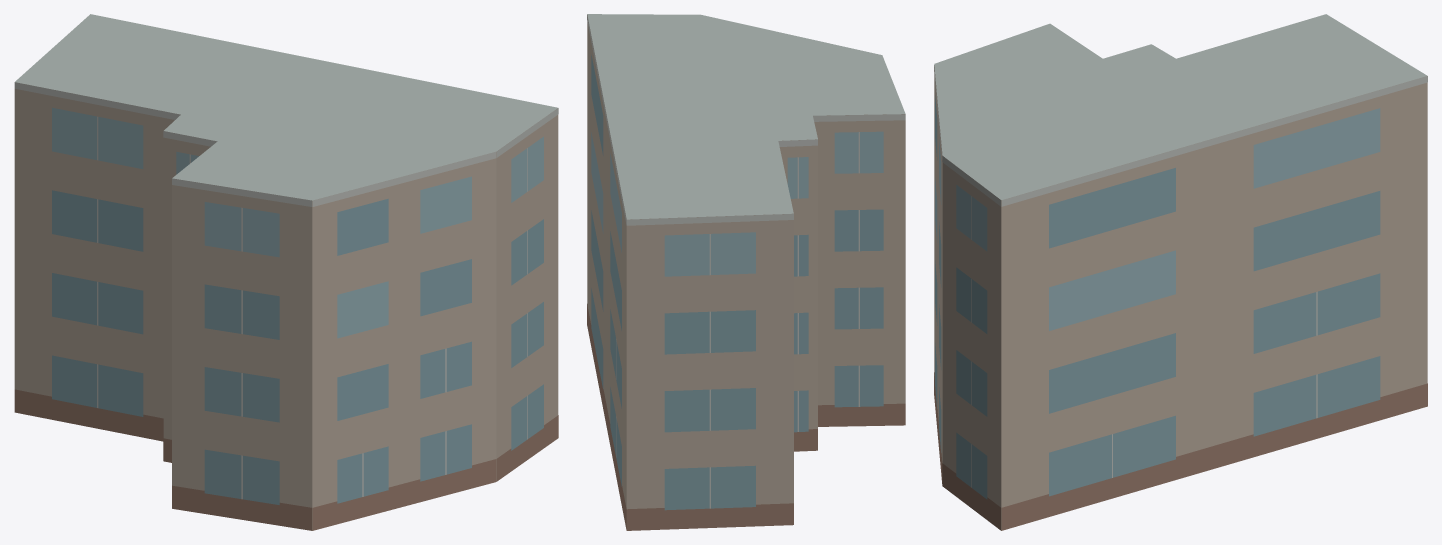
File: residential-91232b0e-330e-436c-b69f-4a62f05cb321.glb
3 views of the same model, side by side, from view 1: azimuth 30°, elevation 25°; view 2: azimuth 150°, elevation 25°; view 3: azimuth 270°, elevation 25° (orthographic). The views are drawn at different scales.
Parts seen in each view (by area): view 1: residential-91232b0e-330e-436c-b69f-4a62f05cb321.tmp; view 2: residential-91232b0e-330e-436c-b69f-4a62f05cb321.tmp; view 3: residential-91232b0e-330e-436c-b69f-4a62f05cb321.tmp.
Part boxes in pixels (box(x1,y1,x2,y2)): residential-91232b0e-330e-436c-b69f-4a62f05cb321.tmp: box(14, 14, 558, 530); residential-91232b0e-330e-436c-b69f-4a62f05cb321.tmp: box(587, 14, 905, 530); residential-91232b0e-330e-436c-b69f-4a62f05cb321.tmp: box(934, 14, 1427, 530).
Bounding box in the file's own units: 14.76 × 12.2 × 16.52.
